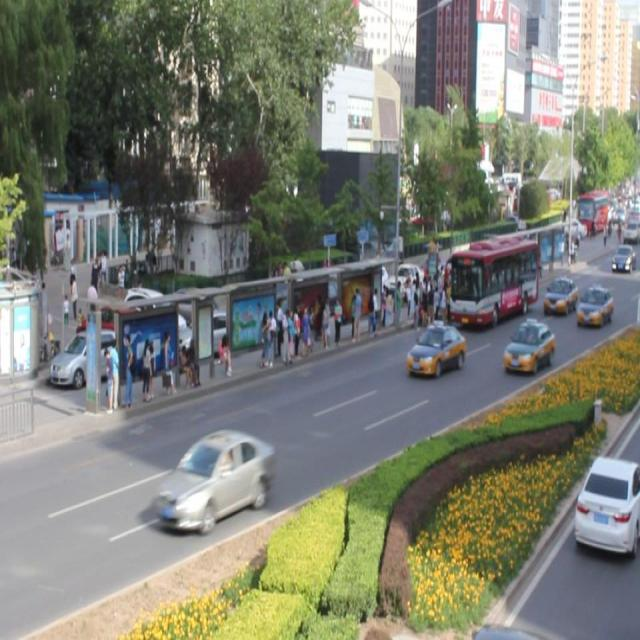car: (157, 426, 272, 534), (407, 324, 464, 376), (502, 317, 554, 373), (575, 283, 612, 326), (543, 276, 576, 314)
van: (447, 232, 538, 326)
